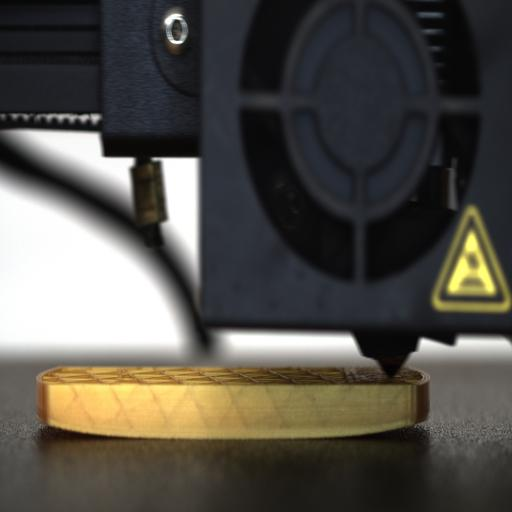warp: (386, 405, 432, 443), (37, 407, 79, 441)
